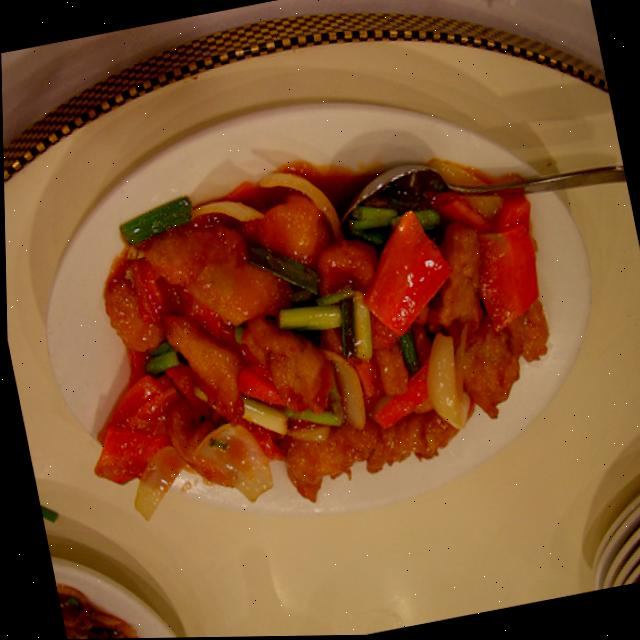猪肉菜式: (39, 119, 581, 546)
